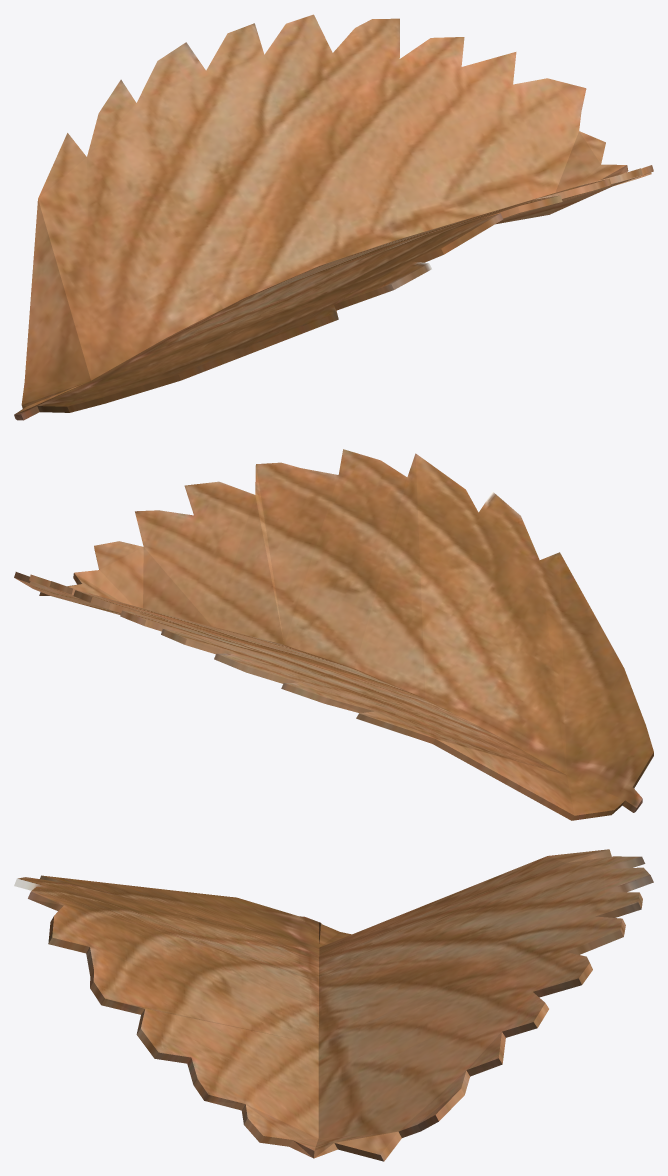
File: leaf1_d2.dae
The picture shows the model from 3 angles, top to bottom: view 1: azimuth 30°, elevation 25°; view 2: azimuth 150°, elevation 25°; view 3: azimuth 270°, elevation 25°; orthographic projection. The views are drawn at different scales.
Visible parts, largest first — view 1: Plane; view 2: Plane; view 3: Plane.
Boxes of the visible parts, x1=… form: Plane: x1=14, y1=14, x2=653, y2=420; Plane: x1=14, y1=449, x2=653, y2=820; Plane: x1=14, y1=849, x2=653, y2=1161.
Bounding box in the file's own units: 0.1327 × 0.101 × 0.0426.
Materials: 1 (1 with a texture image).
